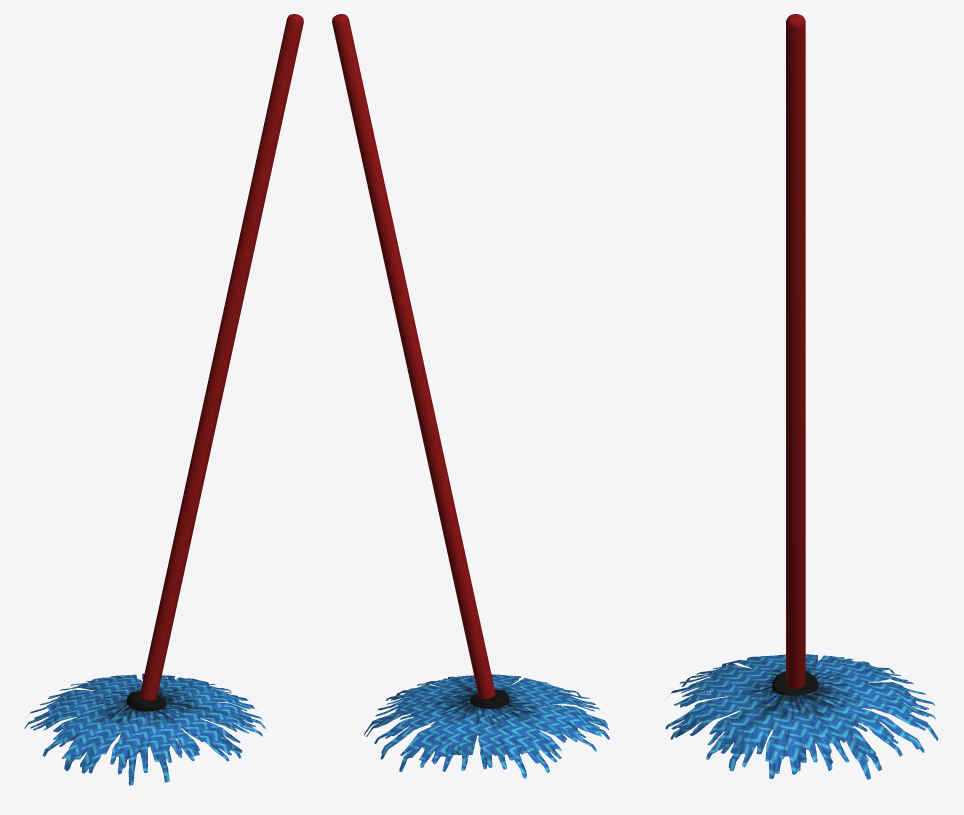
The model's file is Prop_CleaningBucket_Mop.fbx.
3 renders of one model, left to right at view 1: azimuth 30°, elevation 25°; view 2: azimuth 150°, elevation 25°; view 3: azimuth 270°, elevation 25°, orthographic. The views are drawn at different scales.
Visible parts, largest first — view 1: Prop_CleaningBucket_Mop; view 2: Prop_CleaningBucket_Mop; view 3: Prop_CleaningBucket_Mop.
Part boxes in pixels (<box>): Prop_CleaningBucket_Mop: <box>24,14,303,785</box>; Prop_CleaningBucket_Mop: <box>332,14,609,778</box>; Prop_CleaningBucket_Mop: <box>665,14,938,779</box>.
Size of the model in its own units: 25.07 by 61.23 by 20.86.
